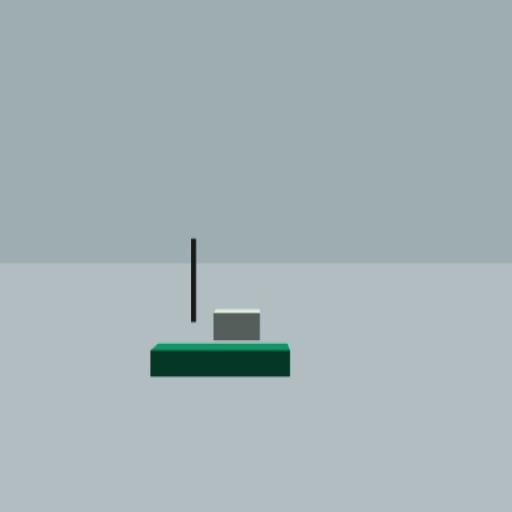fishing_boat: (148, 237, 292, 382)
